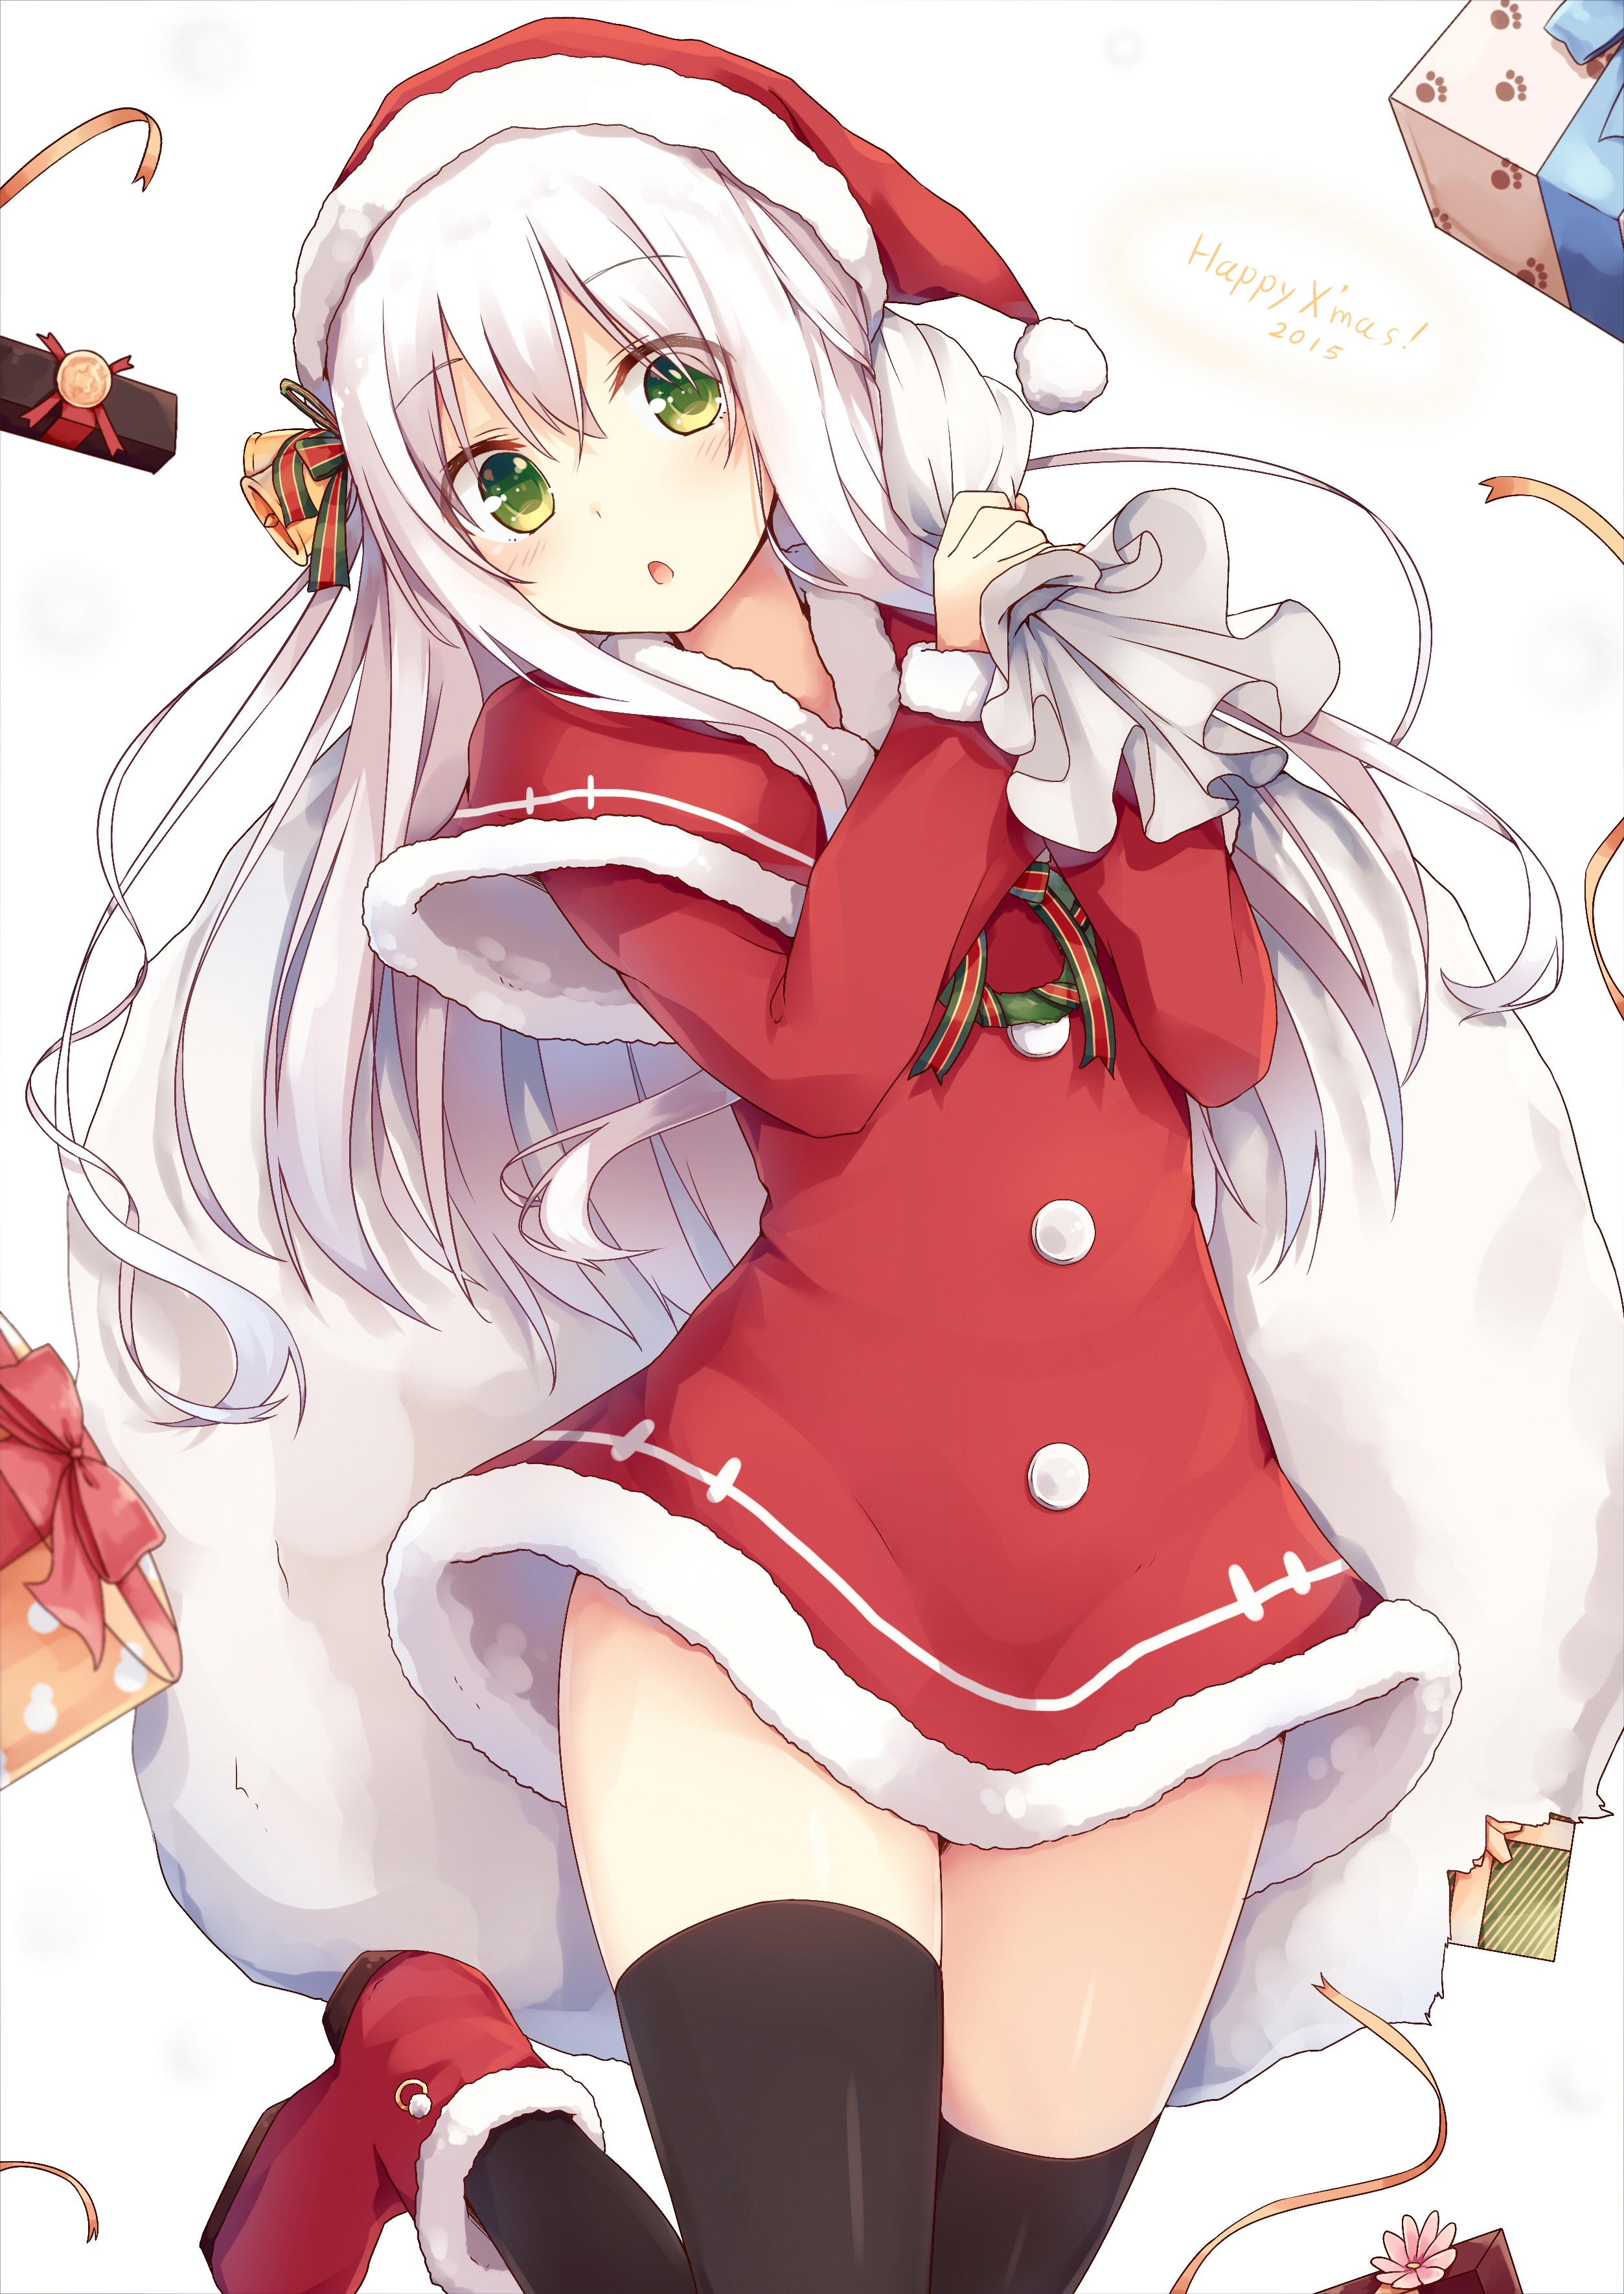纸片人正脸: (278, 18, 927, 669)
